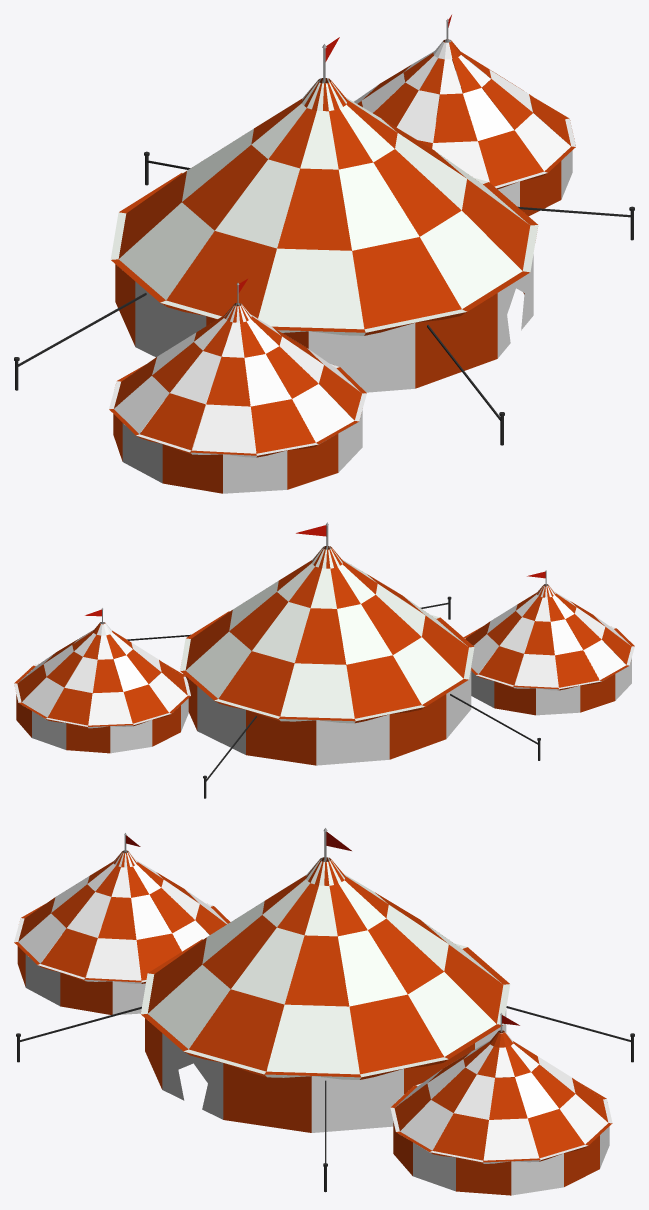
File: circus1.fbx
3 views of the same model, one above another, from view 1: azimuth 30°, elevation 25°; view 2: azimuth 150°, elevation 25°; view 3: azimuth 270°, elevation 25° (orthographic). The views are drawn at different scales.
Visible parts, largest first — view 1: Cylinder.001_3, Cylinder_2, Cylinder.003_5; view 2: Cylinder.001_3, Cylinder_2, Cylinder.003_5; view 3: Cylinder.001_3, Cylinder_2, Cylinder.003_5.
Boxes of the visible parts, x1,y1,x2,y2 form: Cylinder.001_3: (109,39,575,457); Cylinder_2: (113,87,572,493); Cylinder.003_5: (14,151,634,445); Cylinder.001_3: (14,546,634,728); Cylinder_2: (16,620,631,765); Cylinder.003_5: (127,596,540,798); Cylinder.001_3: (14,850,612,1163); Cylinder_2: (17,895,609,1195); Cylinder.003_5: (16,1006,634,1192).
Bounding box in the file's own units: 811 × 323 × 777.
